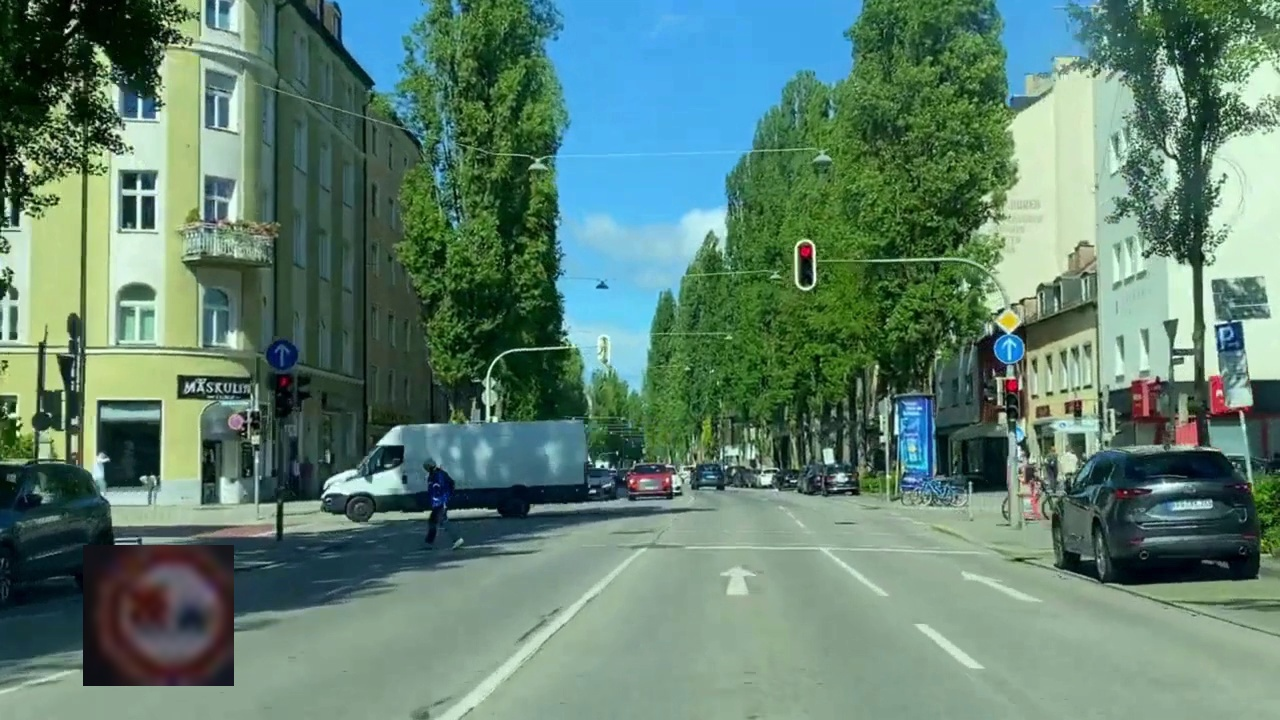No pass >3.5t: (83, 545, 234, 686)
